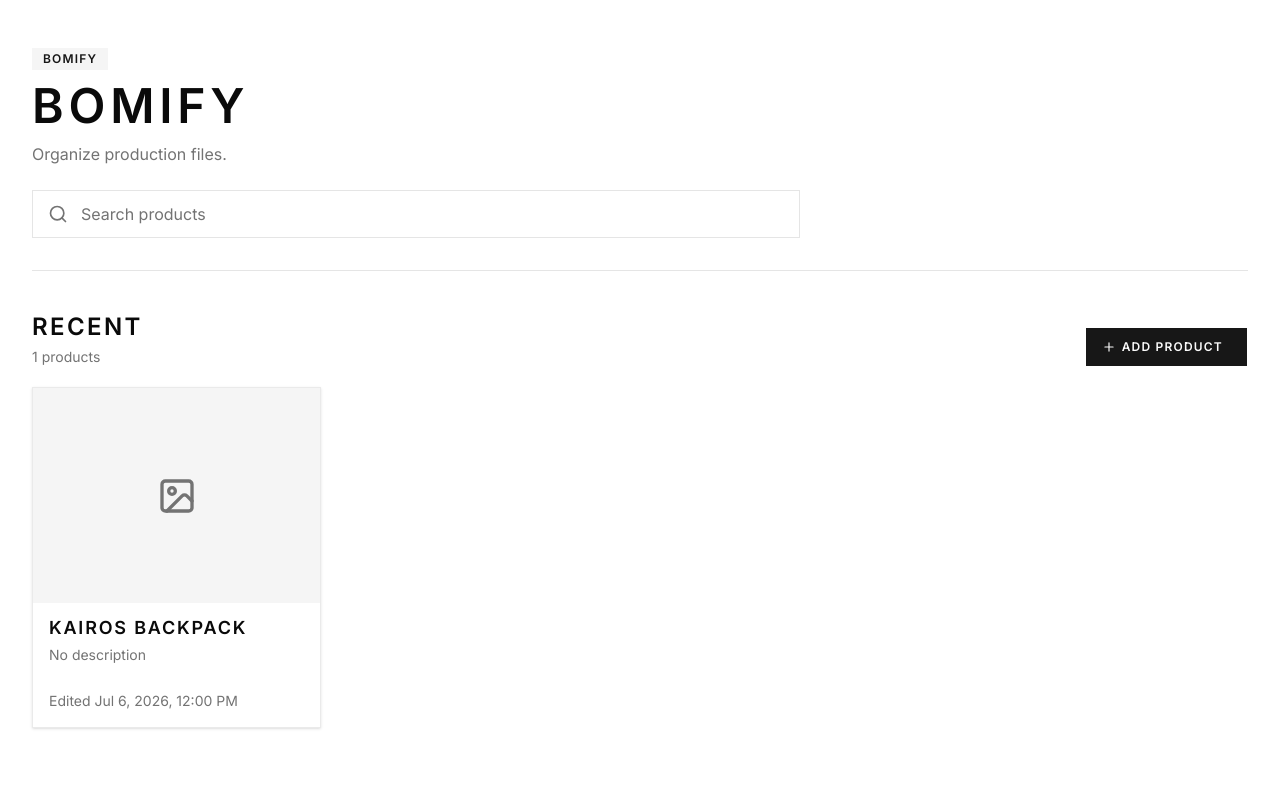
Test case: ProductsOverview › renders an empty state when no products match
In the field labelled "Search products": (416, 214) [32,190,800,238], type "wallet"
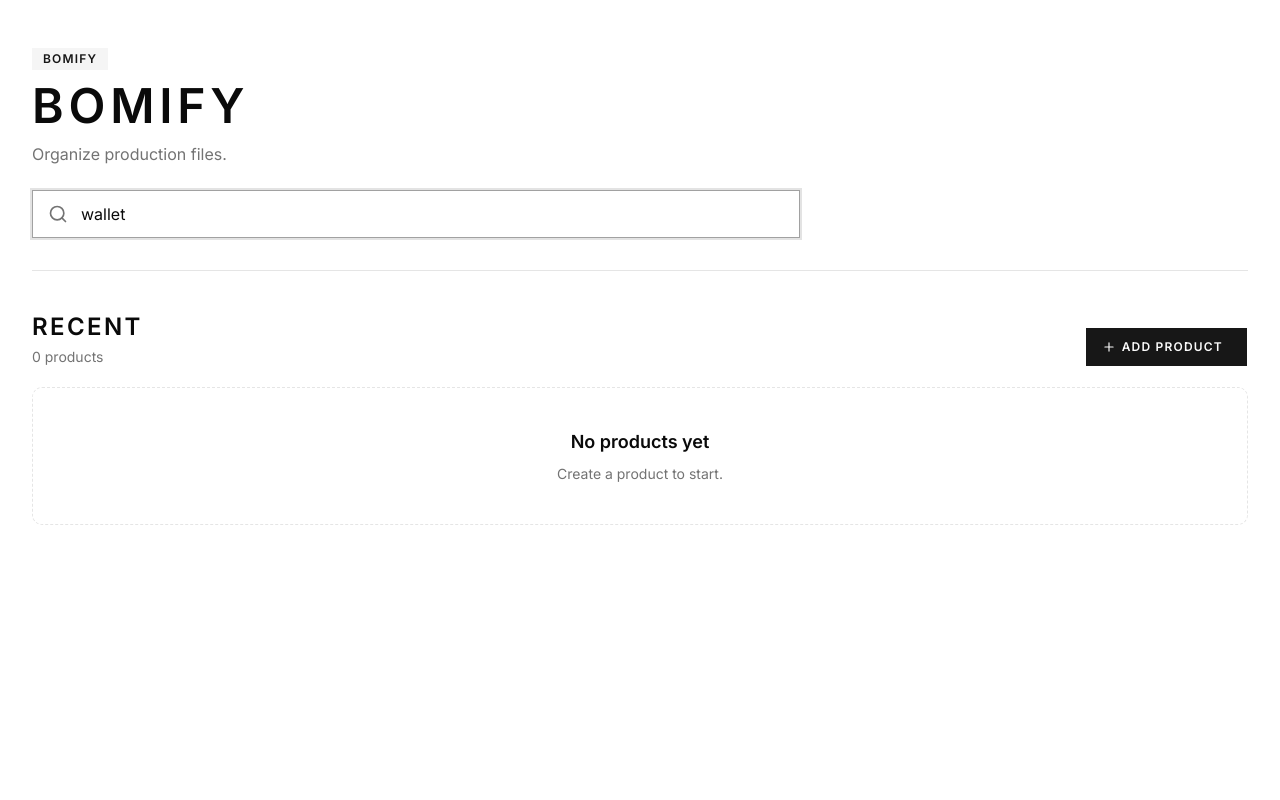
Now the heading "No products yet" is shown, box [571,431,709,452]
